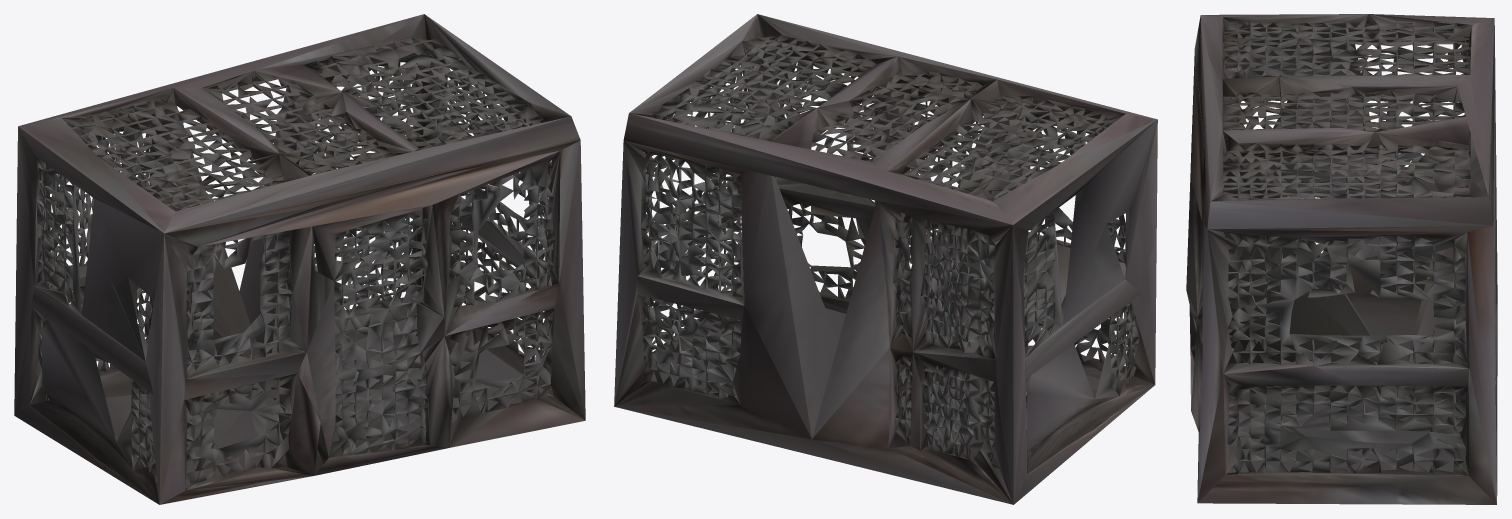
The model's file is prison_armory_cage_idle.glb.
3 renders of one model, left to right at view 1: azimuth 30°, elevation 25°; view 2: azimuth 150°, elevation 25°; view 3: azimuth 270°, elevation 25°, orthographic. The views are drawn at different scales.
Visible parts, largest first — view 1: tripo_node_e825c415-ef1c-4061-b763-d6ffd8b7c586; view 2: tripo_node_e825c415-ef1c-4061-b763-d6ffd8b7c586; view 3: tripo_node_e825c415-ef1c-4061-b763-d6ffd8b7c586.
Part boxes in pixels (x1=…): tripo_node_e825c415-ef1c-4061-b763-d6ffd8b7c586: x1=14, y1=14, x2=585, y2=504; tripo_node_e825c415-ef1c-4061-b763-d6ffd8b7c586: x1=614, y1=14, x2=1157, y2=504; tripo_node_e825c415-ef1c-4061-b763-d6ffd8b7c586: x1=1186, y1=14, x2=1497, y2=504.
Bounding box in the file's own units: 5.97 × 4.15 × 3.86.
Materials: 1 (1 with a texture image).
